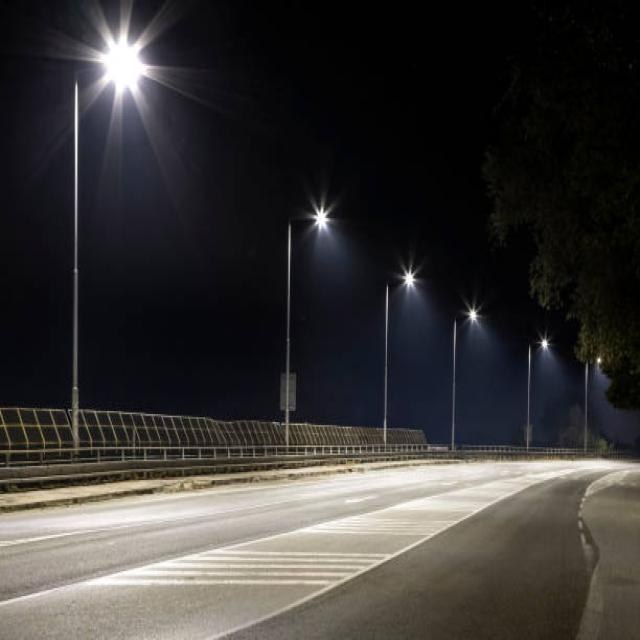acesa: (75, 8, 171, 126), (392, 251, 427, 292), (307, 199, 336, 232), (461, 298, 484, 324), (536, 332, 552, 351)
